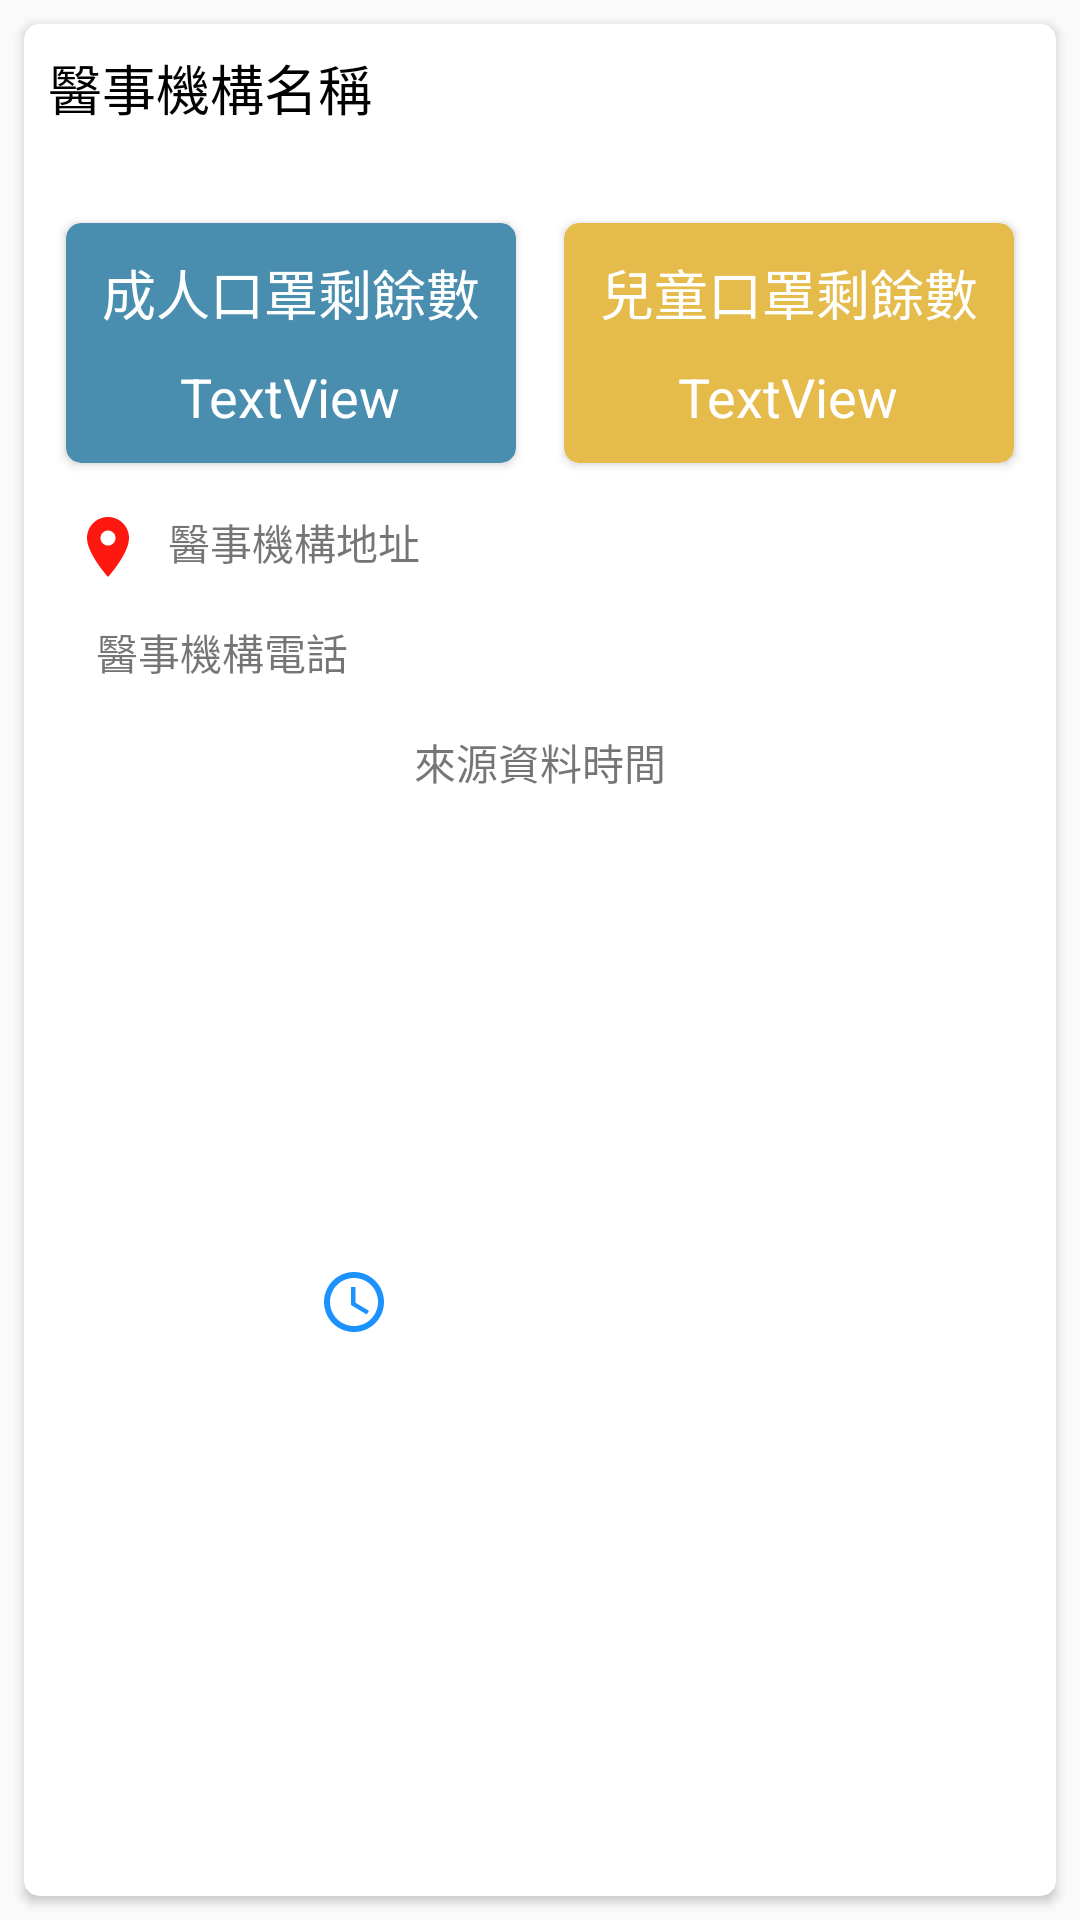

Screen size 1080w x 1920h. Icon name, then its box in pixels as box=[x1, y1, x2, y2]:
location on: box=[87, 517, 129, 577]
time: box=[324, 1272, 384, 1332]
